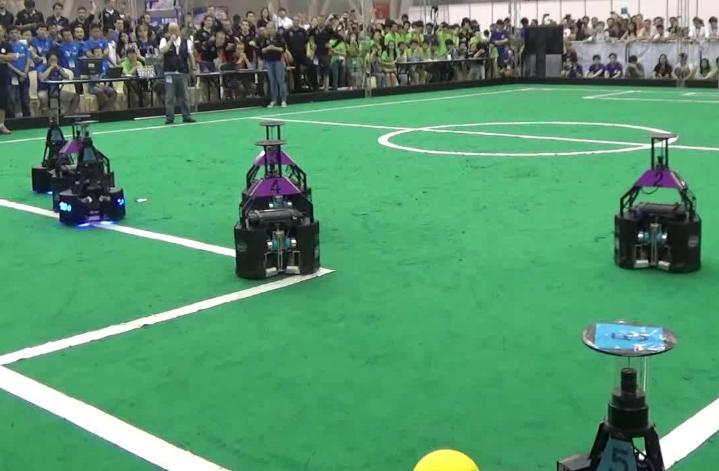robot: (225, 135, 323, 280), (612, 129, 705, 274), (55, 110, 128, 232)
